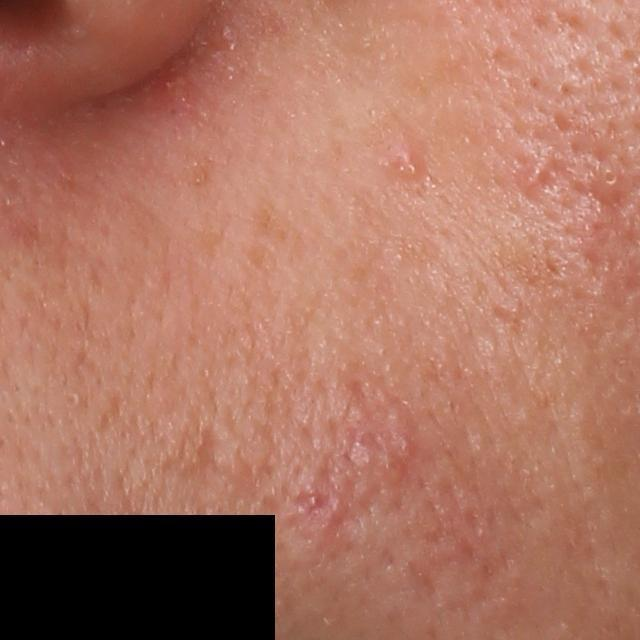atrophic_scar: (182, 427, 227, 486)
papule: (390, 146, 425, 179)
